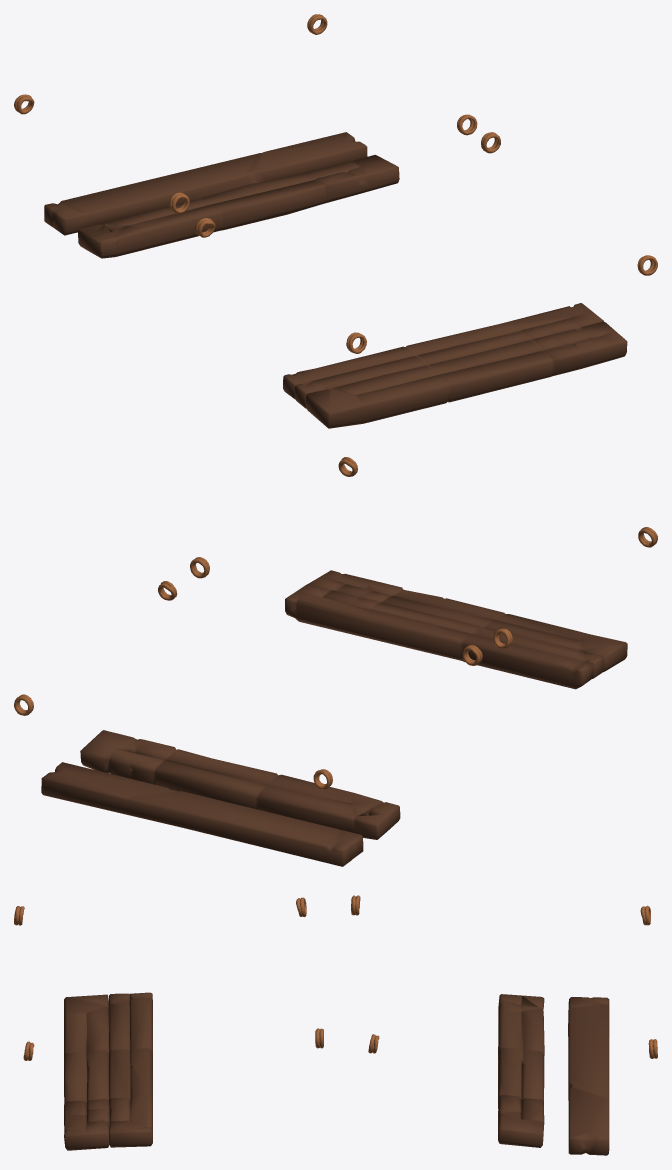
Rendered from SM_bob_map_wooden_bridge.glb.
The picture shows the model from 3 angles, top to bottom: view 1: azimuth 30°, elevation 25°; view 2: azimuth 150°, elevation 25°; view 3: azimuth 270°, elevation 25°; orthographic projection. The views are drawn at different scales.
Parts seen in each view (by area): view 1: SM_bob_map_wooden_bridge; view 2: SM_bob_map_wooden_bridge; view 3: SM_bob_map_wooden_bridge.
Part boxes in pixels (box(x1,y1,x2,y2)): SM_bob_map_wooden_bridge: box(14, 14, 657, 428); SM_bob_map_wooden_bridge: box(14, 457, 657, 866); SM_bob_map_wooden_bridge: box(14, 895, 657, 1155).
Size of the model in its own units: 3.05 by 1.2 by 5.63.
Materials: 1 (1 with a texture image).
